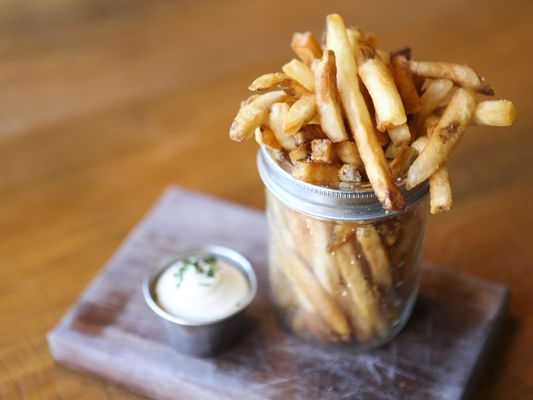pasta: (230, 13, 515, 213)
sushi: (141, 244, 259, 357)
